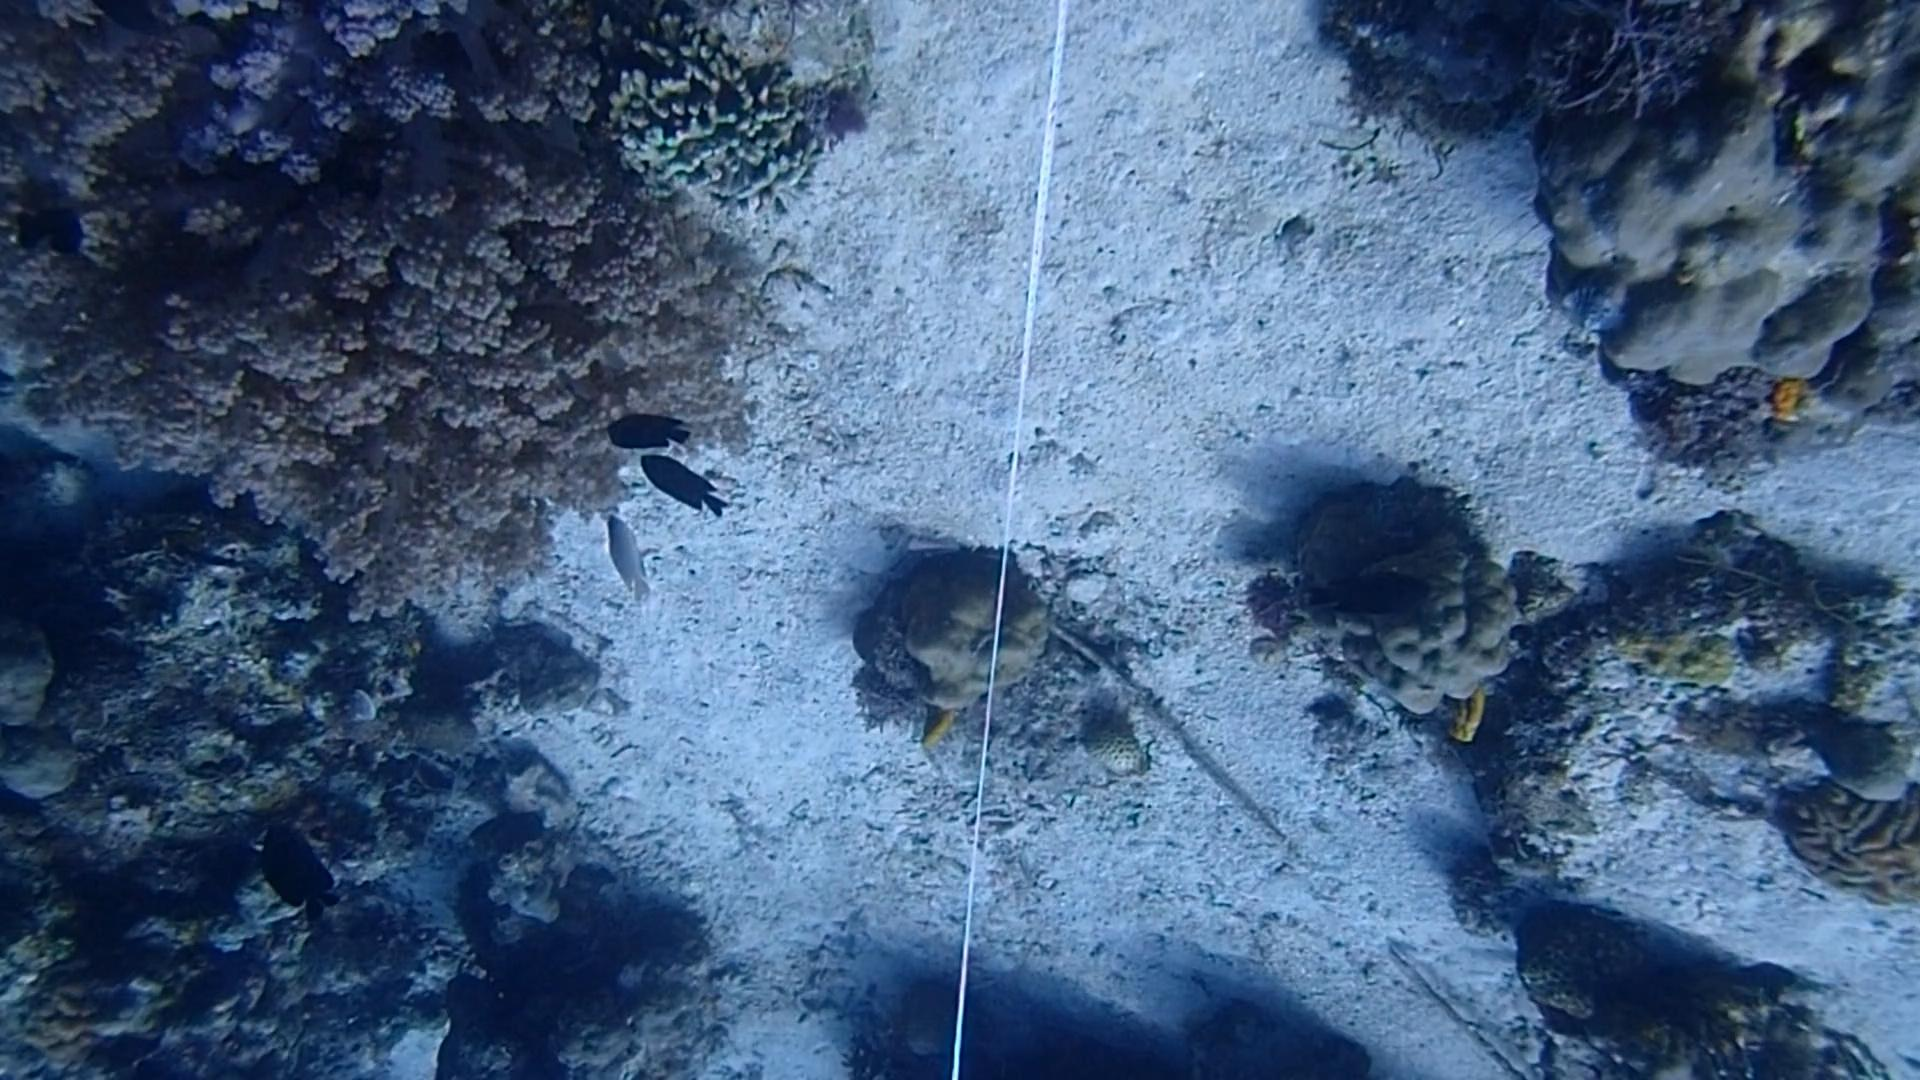Dark Fish: (252, 816, 349, 934), (630, 448, 736, 525), (1313, 563, 1436, 621), (601, 402, 704, 467), (1, 204, 91, 262), (91, 0, 161, 40)
Light Fish: (589, 502, 667, 611)
